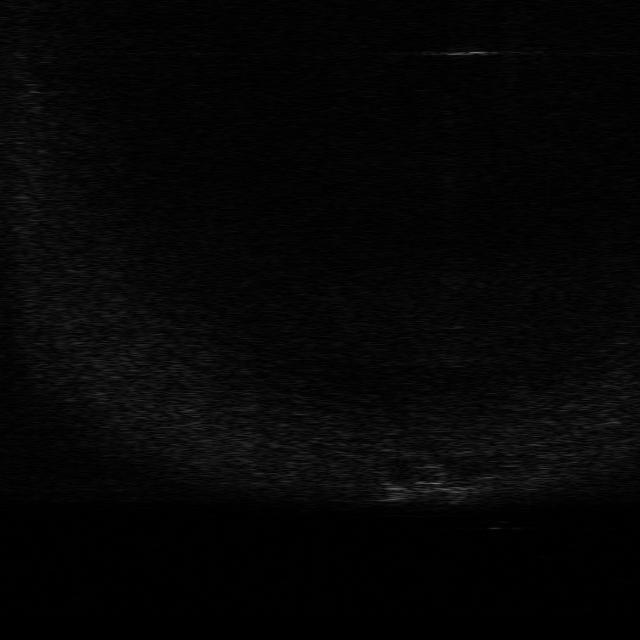plane: (370, 462, 489, 505)
